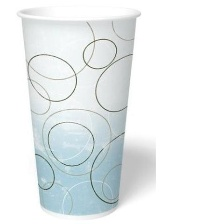paper_cup: (15, 1, 143, 223)
